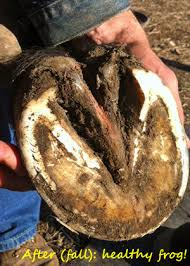horsesole: (17, 65, 189, 242)
